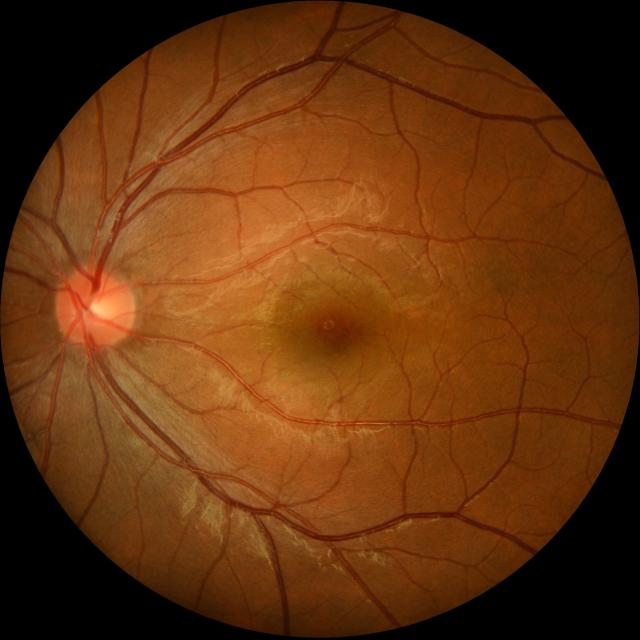OC: (84, 295, 110, 322)
OD: (54, 268, 134, 348)
